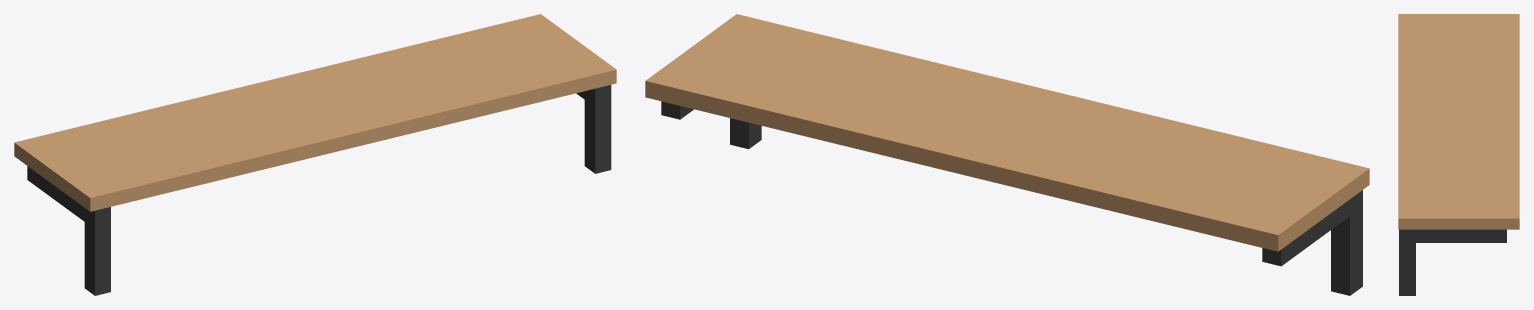
The model's file is rak dinding.fbx.
3 renders of one model, left to right at view 1: azimuth 30°, elevation 25°; view 2: azimuth 150°, elevation 25°; view 3: azimuth 270°, elevation 25°, orthographic. The views are drawn at different scales.
Parts seen in each view (by area): view 1: Cube.003, Cube.023, Cube.002; view 2: Cube.003, Cube.023, Cube.002; view 3: Cube.003, Cube.002.
Boxes of the visible parts, x1,y1,x2,y2 form: Cube.003: (14,14,616,211); Cube.023: (27,166,110,295); Cube.002: (576,85,611,173); Cube.003: (645,14,1369,251); Cube.023: (1262,190,1362,295); Cube.002: (661,101,761,149); Cube.003: (1398,14,1519,229); Cube.002: (1399,229,1506,295).
Size of the model in its own units: 400 by 72.17 by 100.
